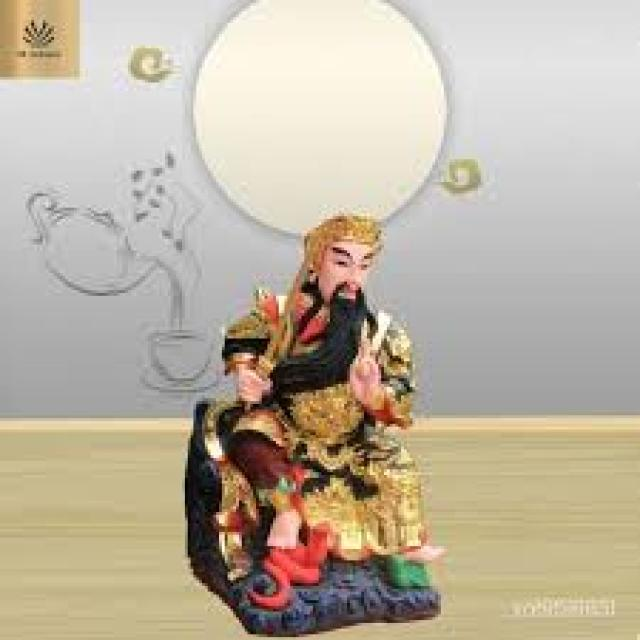Xuan wu: (215, 209, 449, 567)
